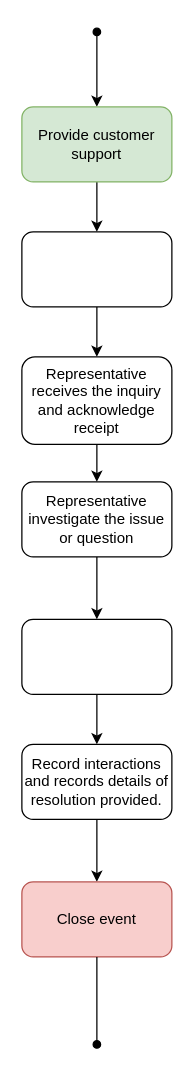
Image size: 194x1076. Some labels were removed from this diagram. Here are the shapes that lost their labels. From the top down, the box of each, then its label:
(21, 231, 172, 307): Reach out for assistance via chat
(21, 618, 172, 694): Representative responds professionally
